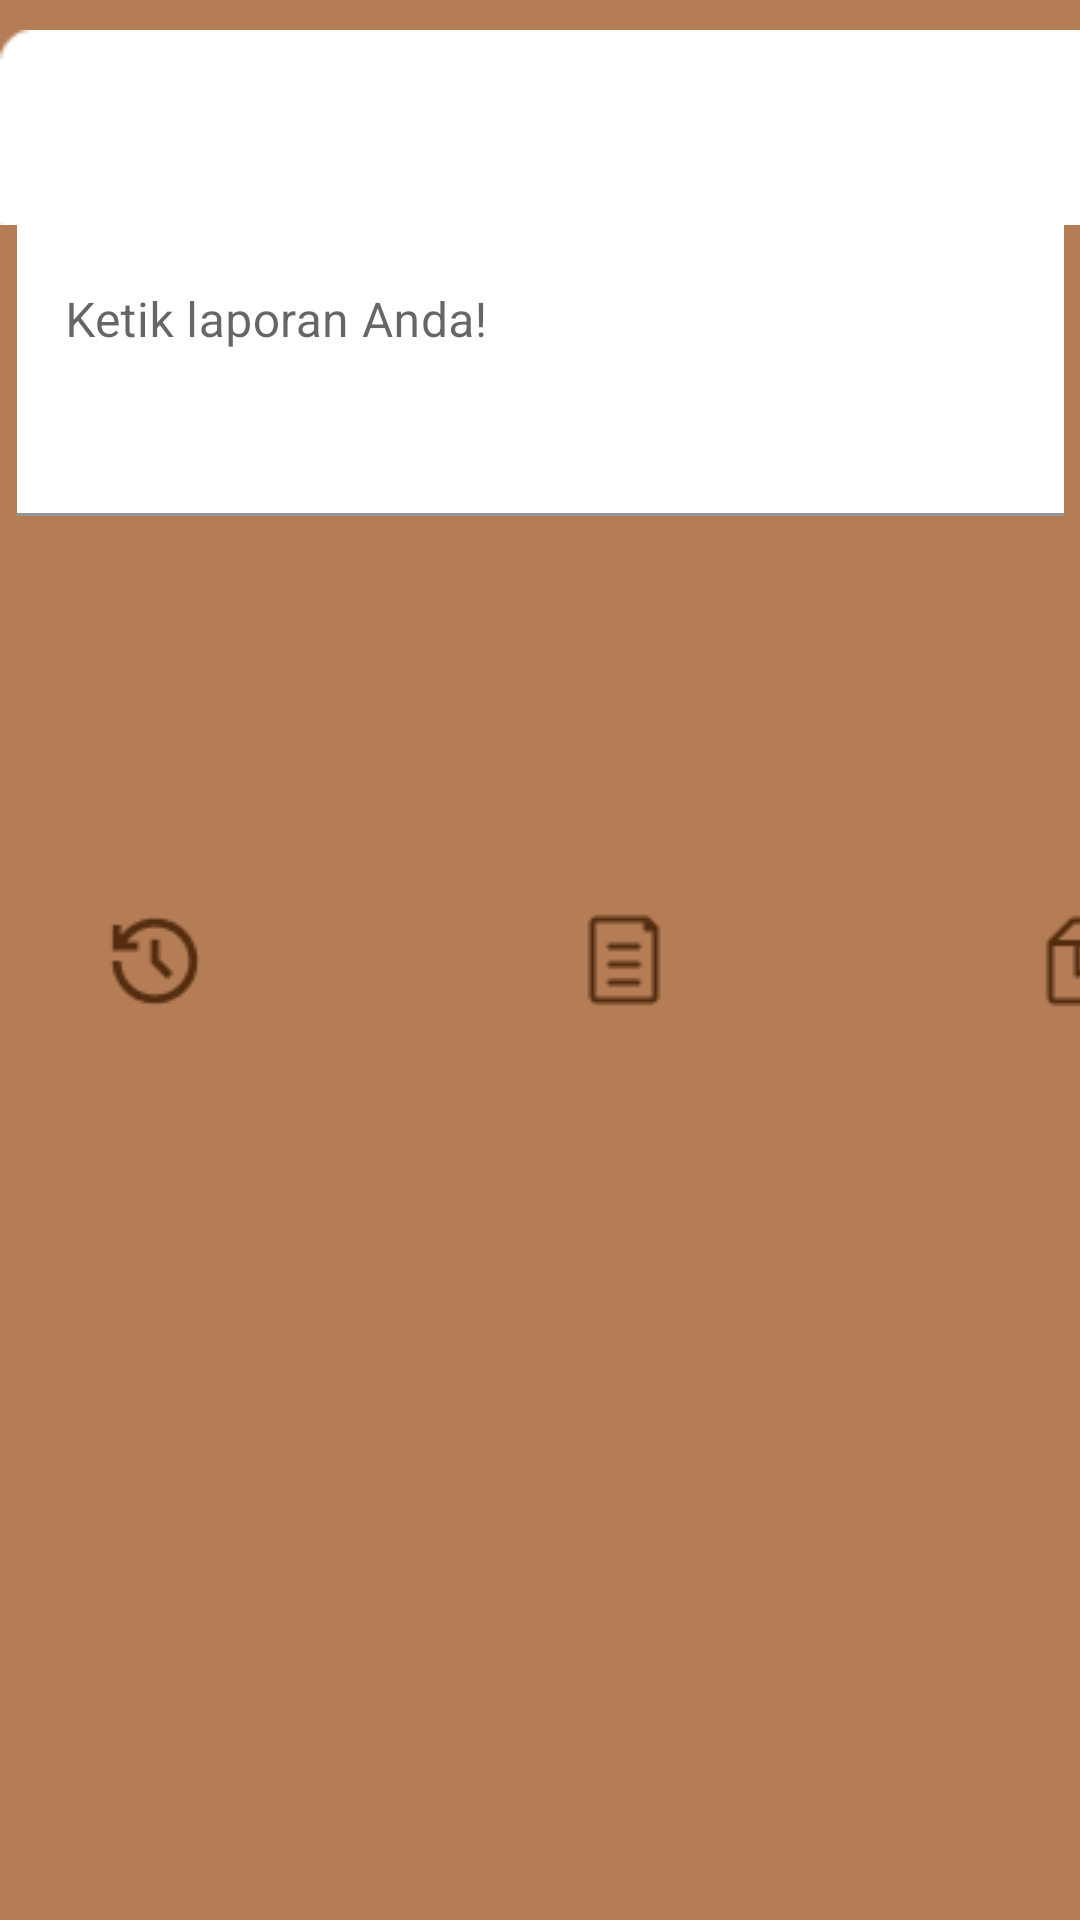

Screen size 1080×1920. Icon name, then its center in pixels as (x=x, y=y):
history: (x=155, y=961)
